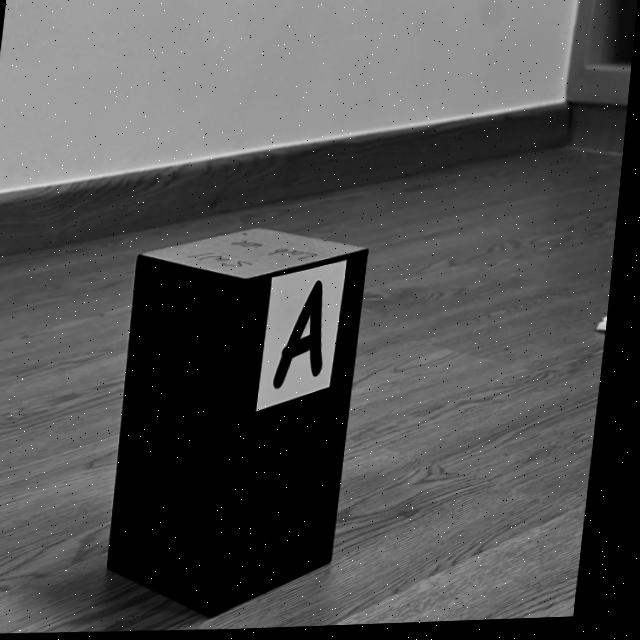A: (281, 284, 330, 391)
